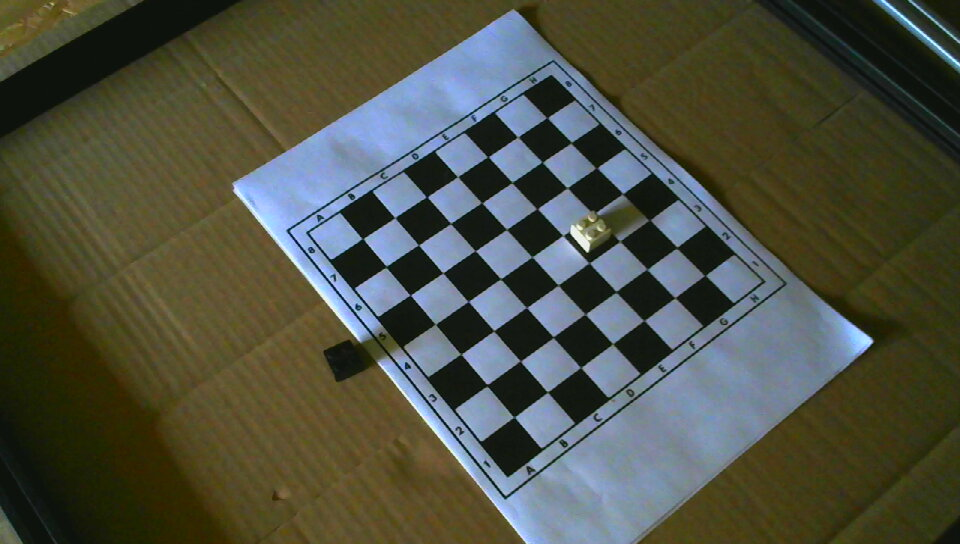bp: (323, 339, 364, 383)
wp: (570, 210, 613, 254)
